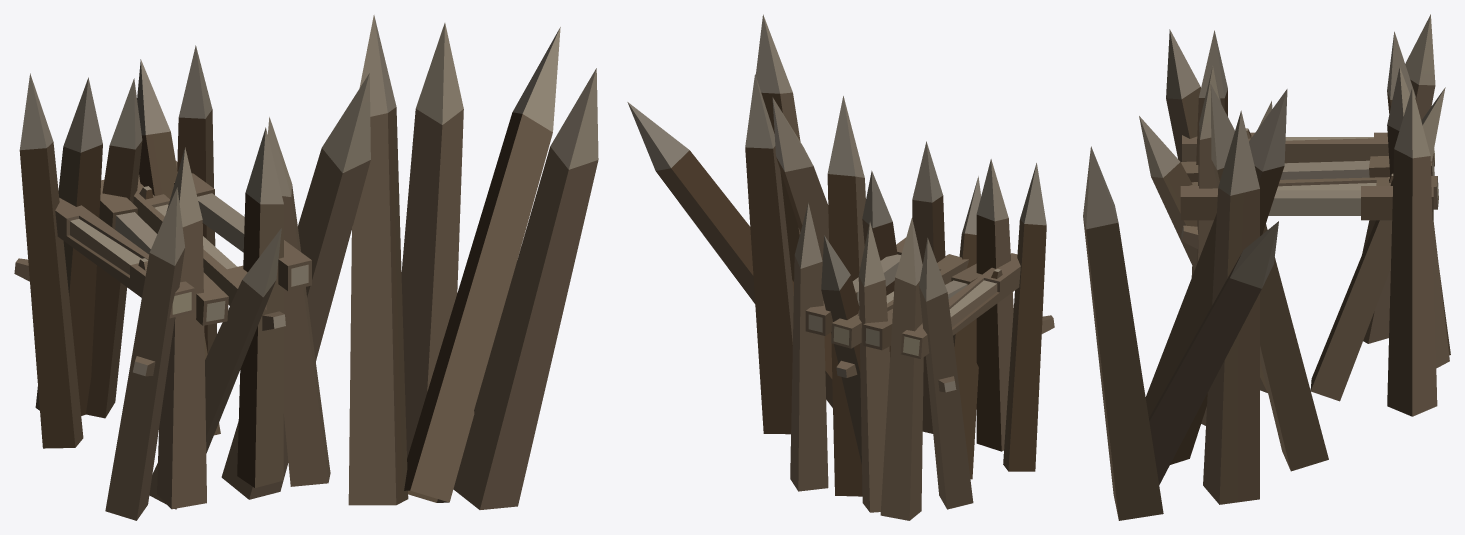
Rendered from SF_Bld_Goblin_Wall_02.fbx.
3 renders of one model, left to right at view 1: azimuth 30°, elevation 25°; view 2: azimuth 150°, elevation 25°; view 3: azimuth 270°, elevation 25°, orthographic. The views are drawn at different scales.
Visible parts, largest first — view 1: SF_Bld_Goblin_Wall_02; view 2: SF_Bld_Goblin_Wall_02; view 3: SF_Bld_Goblin_Wall_02.
Boxes of the visible parts, <box> form: SF_Bld_Goblin_Wall_02: <box>14,15,598,520</box>; SF_Bld_Goblin_Wall_02: <box>627,14,1054,520</box>; SF_Bld_Goblin_Wall_02: <box>1083,14,1450,520</box>.
Size of the model in its own units: 12.03 by 11.01 by 8.64.
